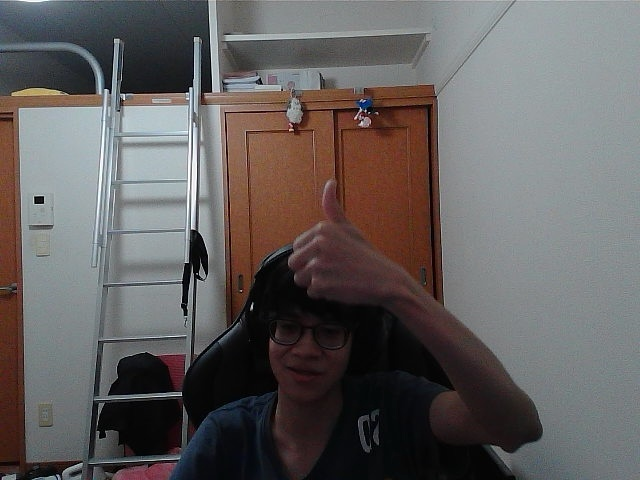thumb_up: (295, 186, 385, 293)
